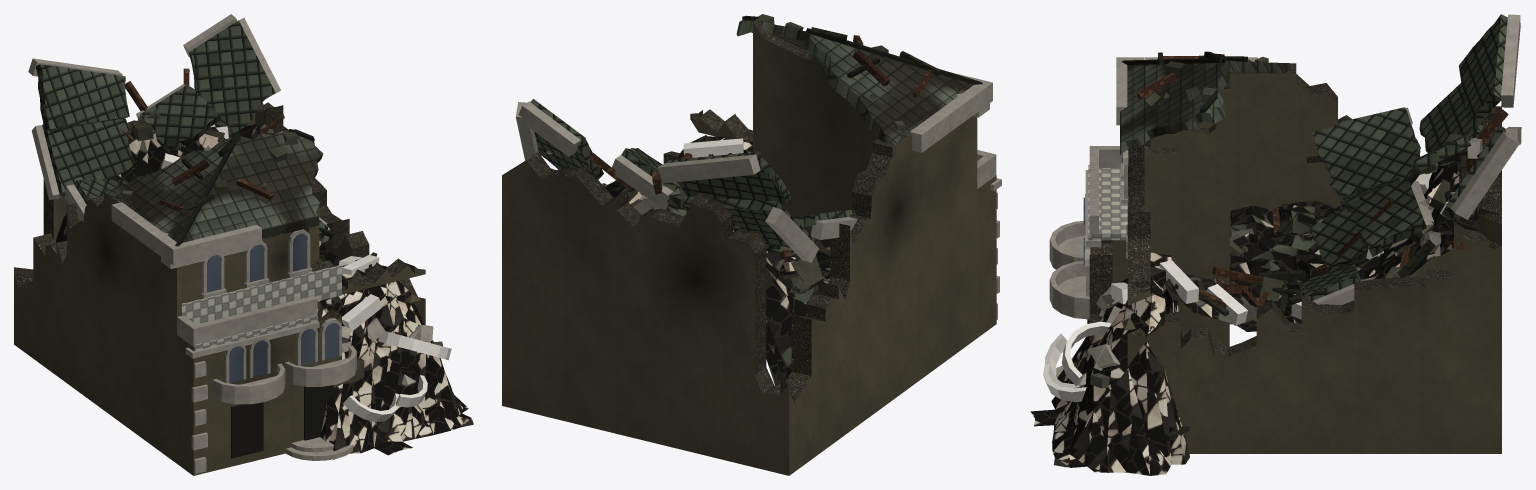
File: CreBuild09b.glb
3 renders of one model, left to right at view 1: azimuth 30°, elevation 25°; view 2: azimuth 150°, elevation 25°; view 3: azimuth 270°, elevation 25°, orthographic. The views are drawn at different scales.
Visible parts, largest first — view 1: CreBuild09b_wall; view 2: CreBuild09b_wall; view 3: CreBuild09b_wall.
Boxes of the visible parts, x1=… form: CreBuild09b_wall: x1=14, y1=14, x2=473, y2=475; CreBuild09b_wall: x1=502, y1=14, x2=1001, y2=475; CreBuild09b_wall: x1=1030, y1=14, x2=1521, y2=475.
Size of the model in its own units: 10.22 by 9.21 by 12.93.
19 materials, 16 textured.
